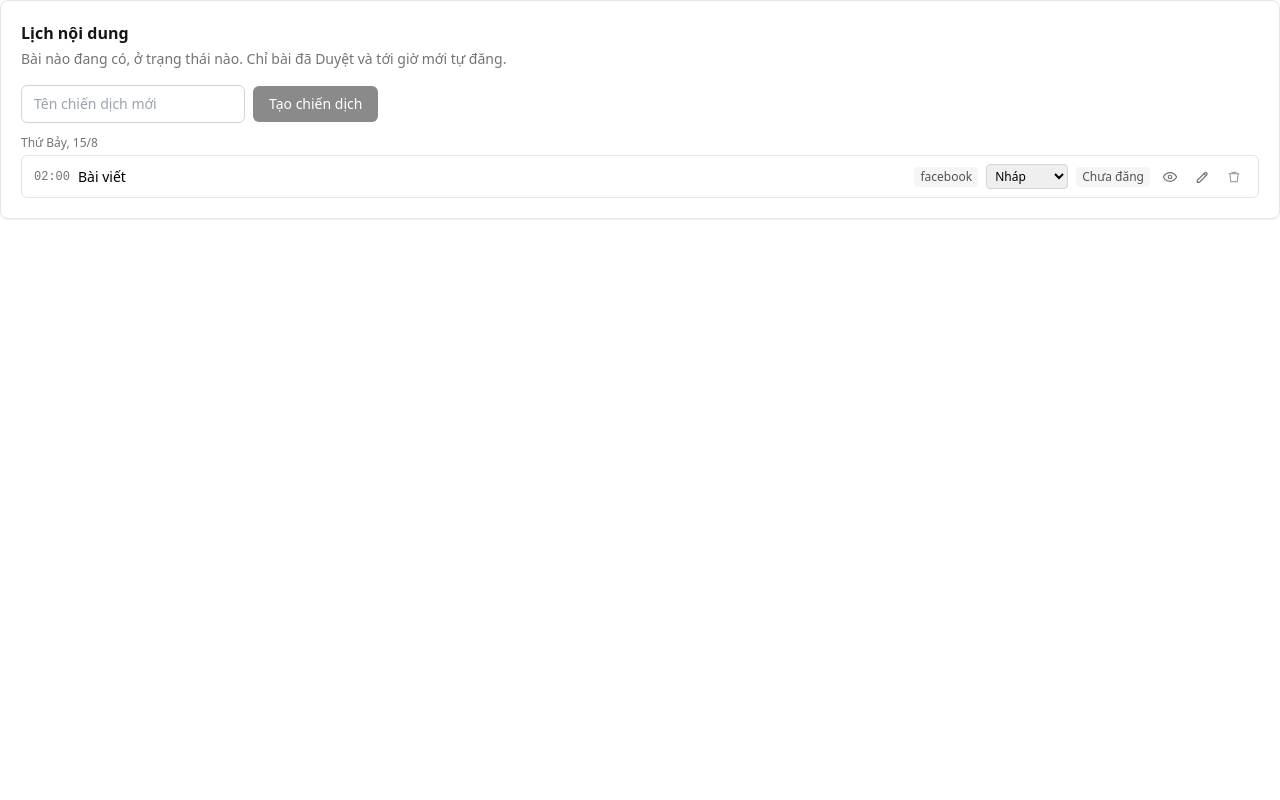
Scenario: CalendarPanel › asks for no picture when the piece has none
Expected: the text "Bài viết" is shown, [78,166,126,186]
Click the button named "Xem trước \"Bài viết\"". click: (1170, 176)
box: [1158,164,1182,188]
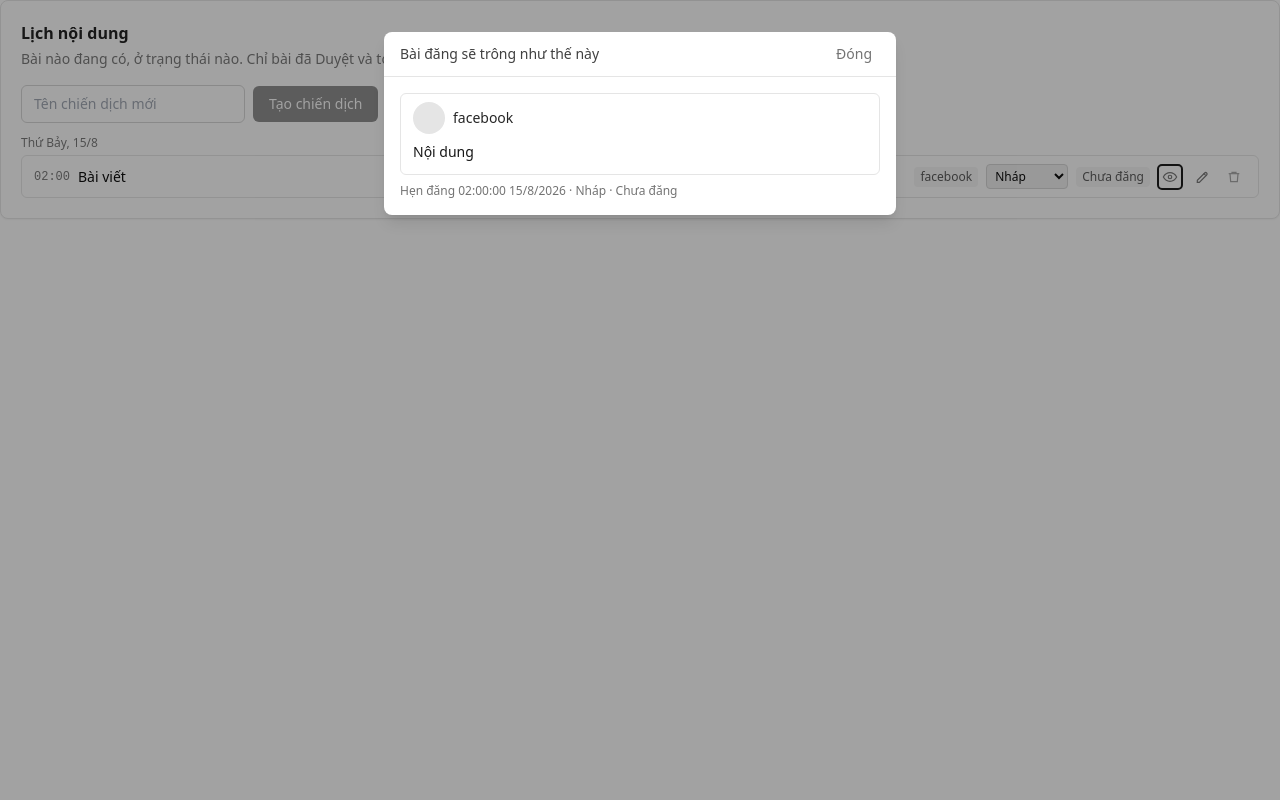
Now the dialog is shown
